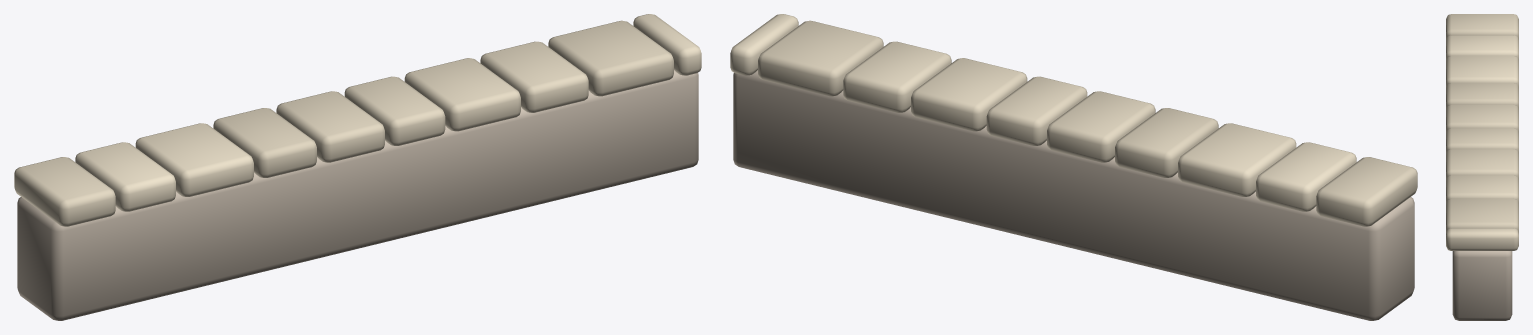
File: low_wall.glb
3 views of the same model, side by side, from view 1: azimuth 30°, elevation 25°; view 2: azimuth 150°, elevation 25°; view 3: azimuth 270°, elevation 25° (orthographic). The views are drawn at different scales.
Visible parts, largest first — view 1: Low_Wall_Body, Low_Wall_Cap; view 2: Low_Wall_Body, Low_Wall_Cap; view 3: Low_Wall_Cap, Low_Wall_Body.
Boxes of the visible parts, x1,y1,x2,y2 form: Low_Wall_Body: [17, 70, 698, 320]; Low_Wall_Cap: [14, 14, 701, 226]; Low_Wall_Body: [733, 70, 1414, 320]; Low_Wall_Cap: [730, 14, 1417, 226]; Low_Wall_Cap: [1446, 14, 1518, 250]; Low_Wall_Body: [1452, 251, 1512, 320].
Size of the model in its own units: 4 by 0.74 by 0.55.
